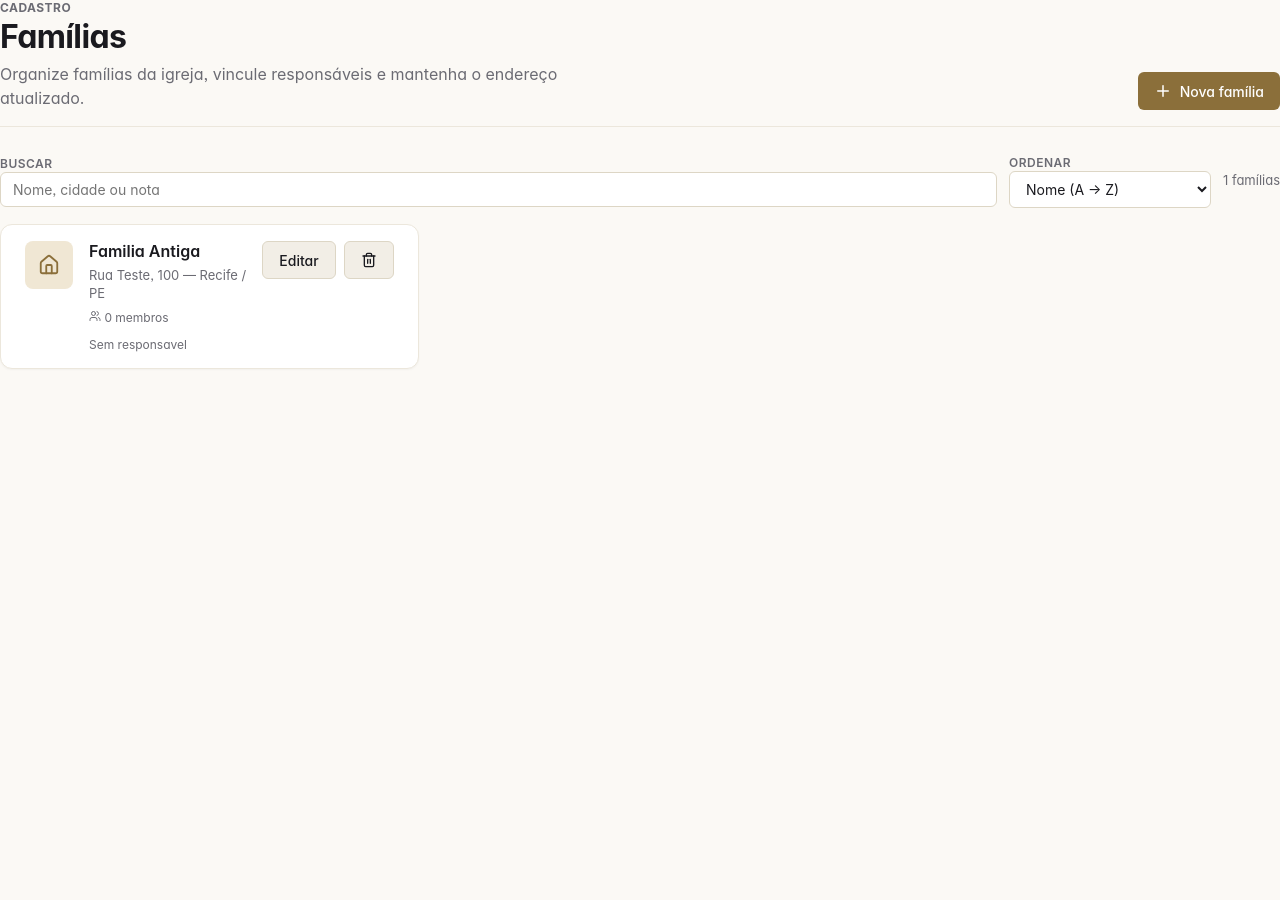
Test: HouseholdsView › starts editing when 'Editar' is clicked and updates on submit
The width and height of the screenshot is (1280, 900).
Expected: the heading "Familia Antiga" is shown, [89,241,200,262]
Click the button "Editar". click: [299, 260]
box: [262,241,336,279]
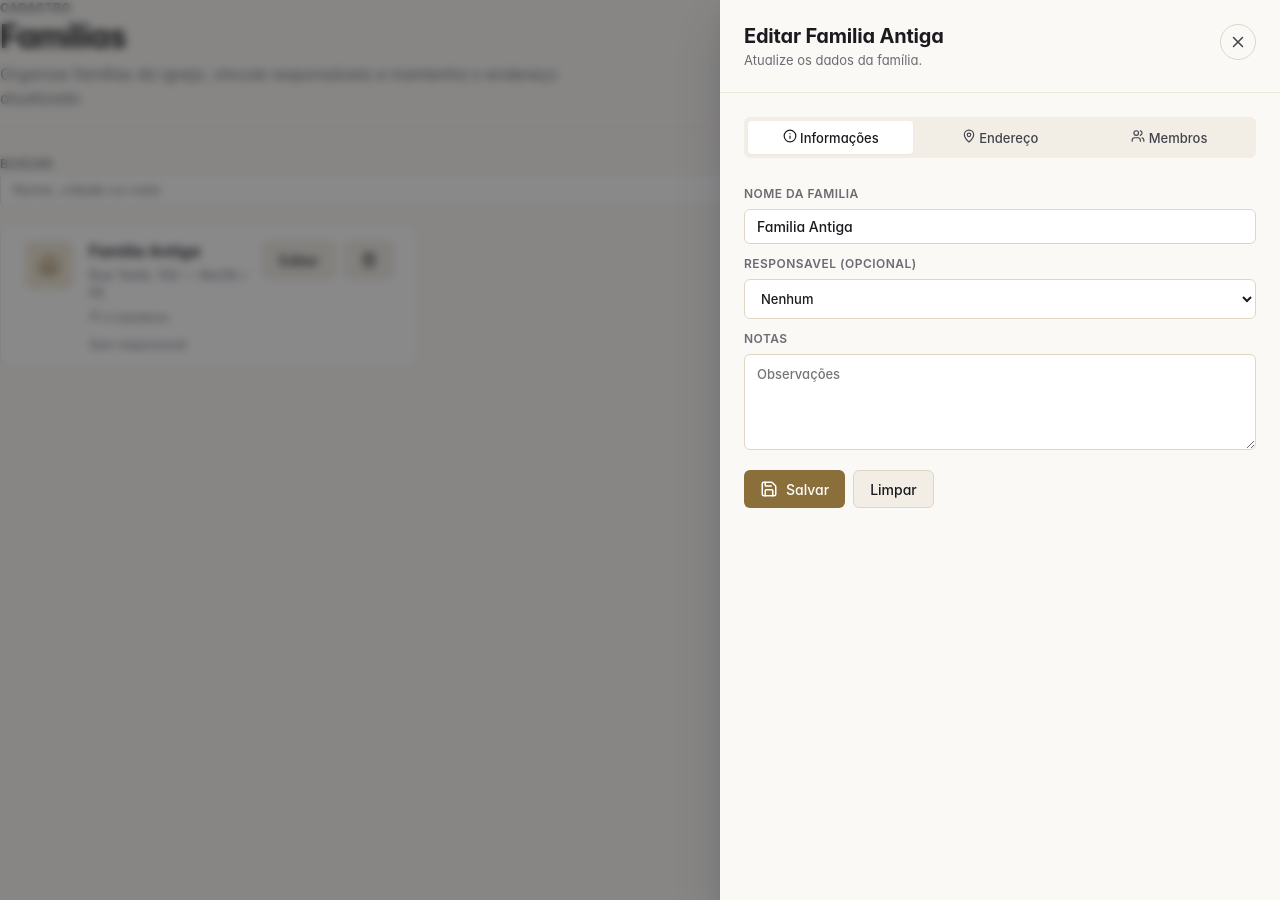
Result: the field labelled "Nome da familia" holds "Familia Antiga"
Replace the text in the field labelled "Nome da familia" with "Familia Renomeada". click: [1000, 226]
box: [744,209,1256,244]
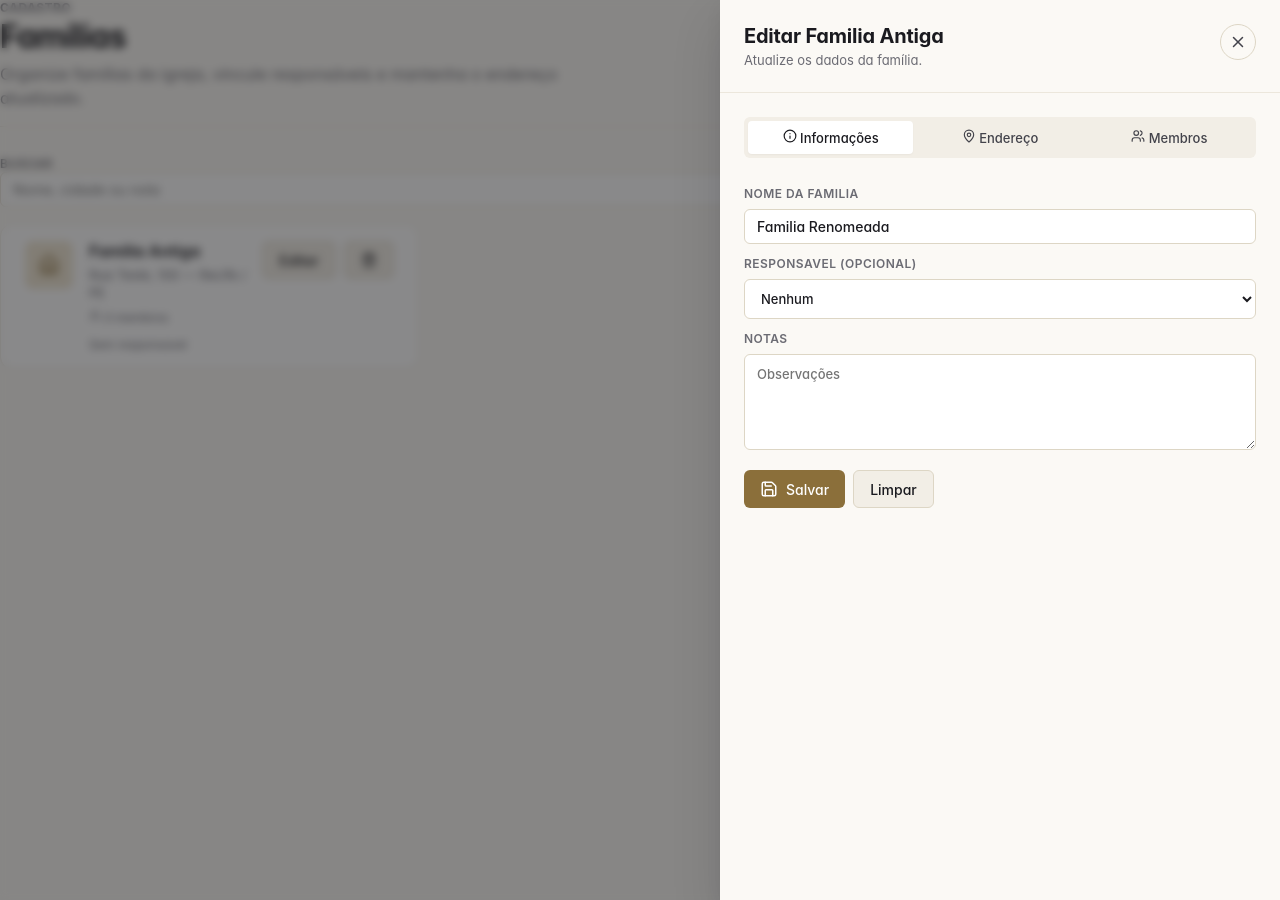
Submit the form "Salvar", box [744,117,1256,508]
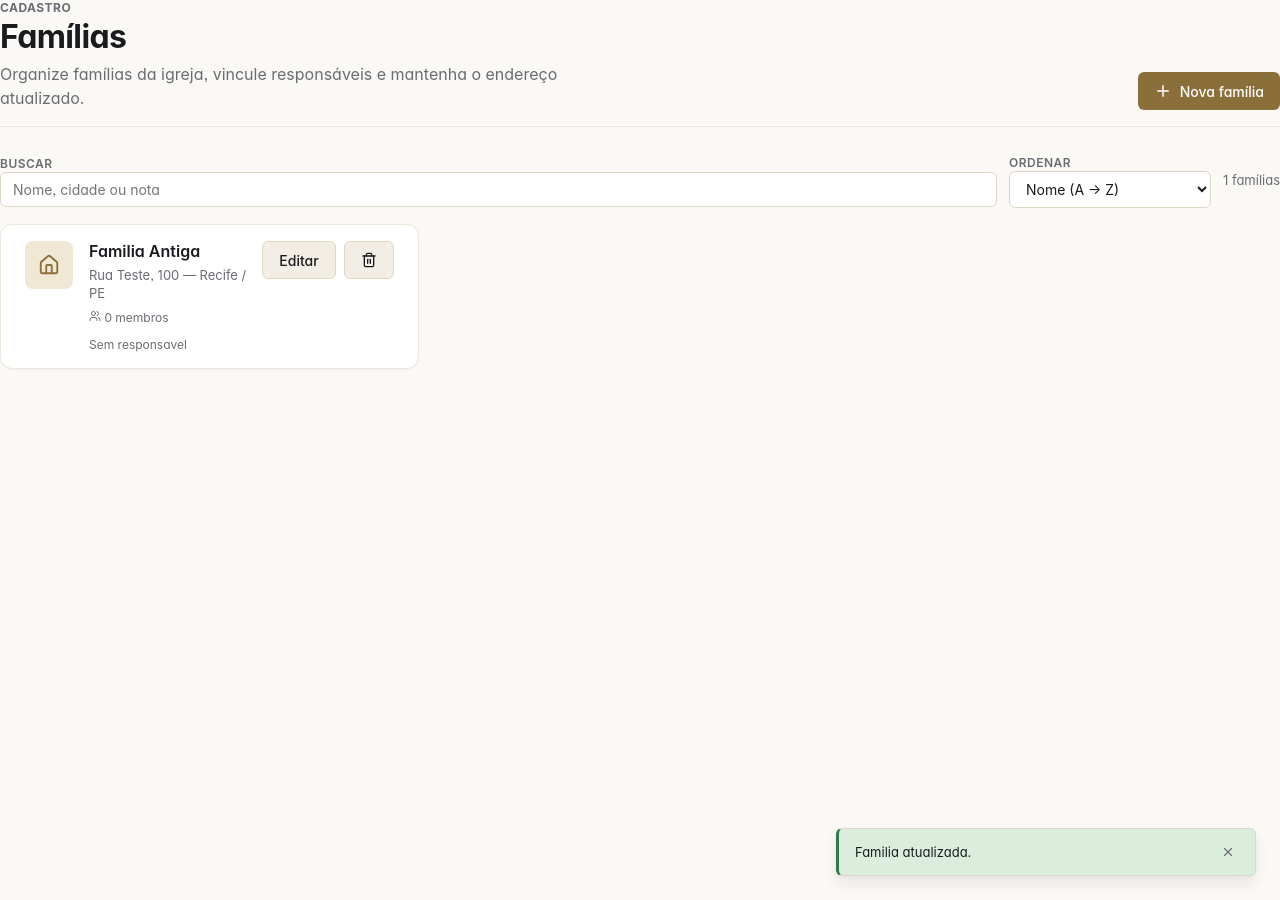
Result: the text "Familia atualizada." is shown at [855,844,971,860]
